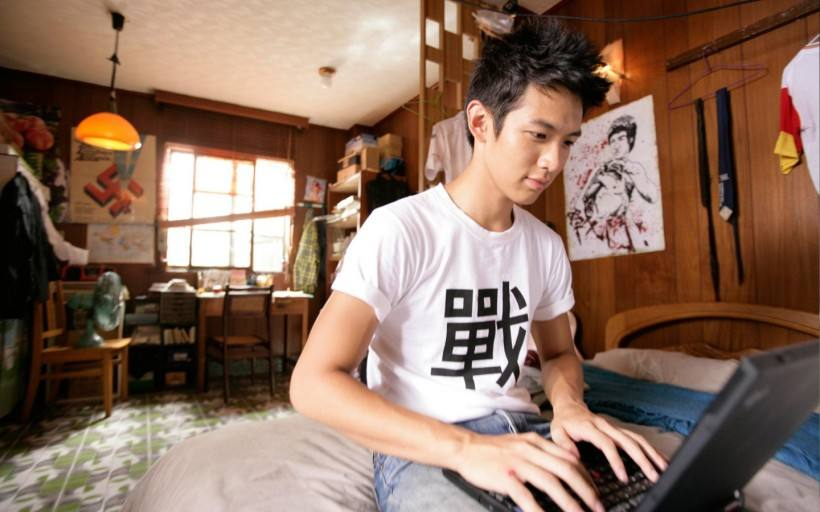person: (332, 15, 615, 455)
